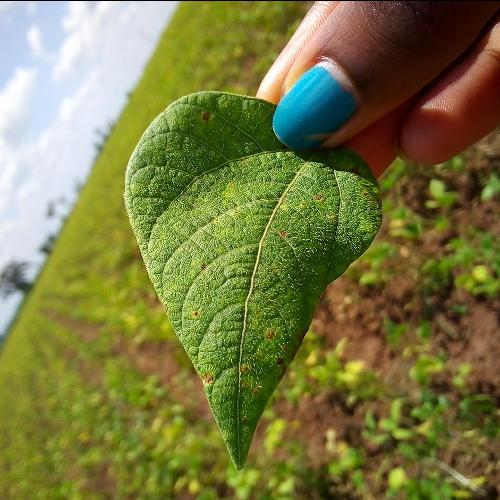mozaik: (154, 124, 328, 351)
